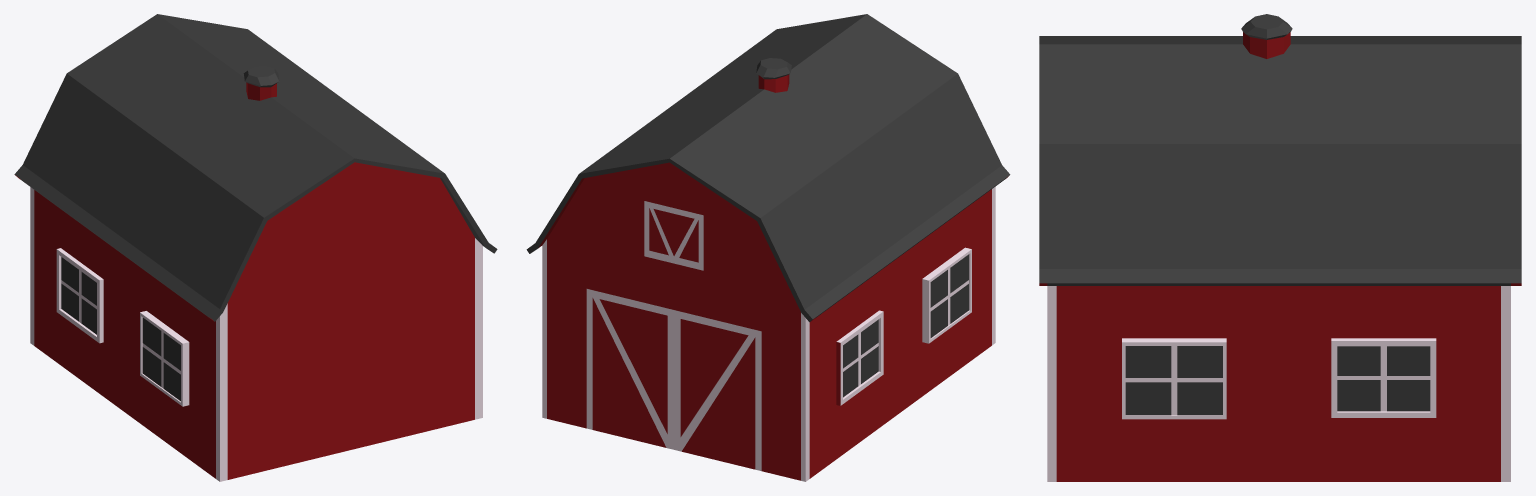
File: barn.glb
3 renders of one model, left to right at view 1: azimuth 30°, elevation 25°; view 2: azimuth 150°, elevation 25°; view 3: azimuth 270°, elevation 25°, orthographic. The views are drawn at different scales.
Parts seen in each view (by area): view 1: Cube.001; view 2: Cube.001; view 3: Cube.001.
Part boxes in pixels (left/top/right/bottom): Cube.001: left=14, top=14, right=497, bottom=481; Cube.001: left=526, top=14, right=1010, bottom=481; Cube.001: left=1039, top=14, right=1521, bottom=481.
Size of the model in its own units: 6.4 by 6.68 by 7.65.
